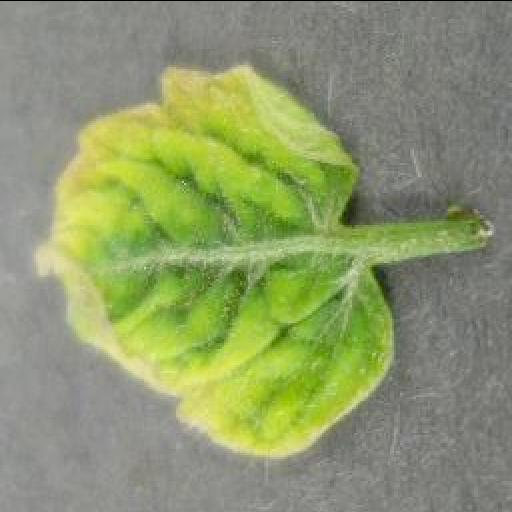disease_tomato: (32, 62, 398, 456)
